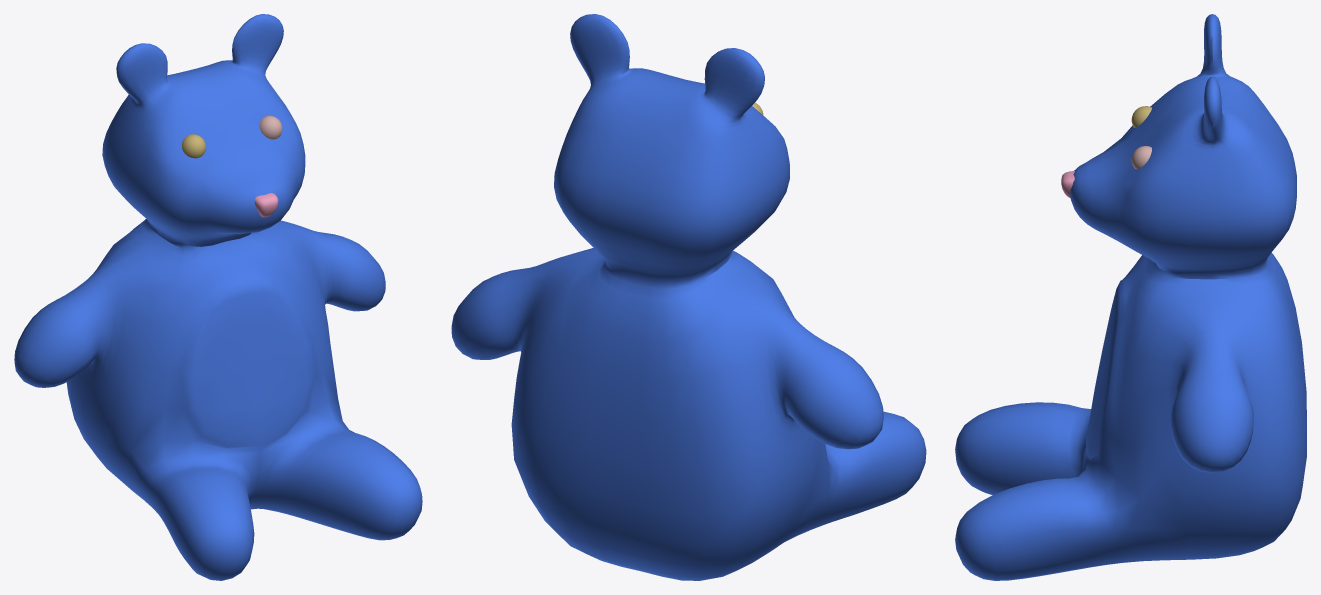
3 views of the same model, side by side, from view 1: azimuth 30°, elevation 25°; view 2: azimuth 150°, elevation 25°; view 3: azimuth 270°, elevation 25° (orthographic). The views are drawn at different scales.
Visible parts, largest first — view 1: defaultMaterial; view 2: defaultMaterial; view 3: defaultMaterial.
Part boxes in pixels (<box>): defaultMaterial: <box>14,14,422,580</box>; defaultMaterial: <box>451,14,926,580</box>; defaultMaterial: <box>955,14,1306,580</box>.
Bounding box in the file's own units: 0.834 × 1 × 0.6502.
